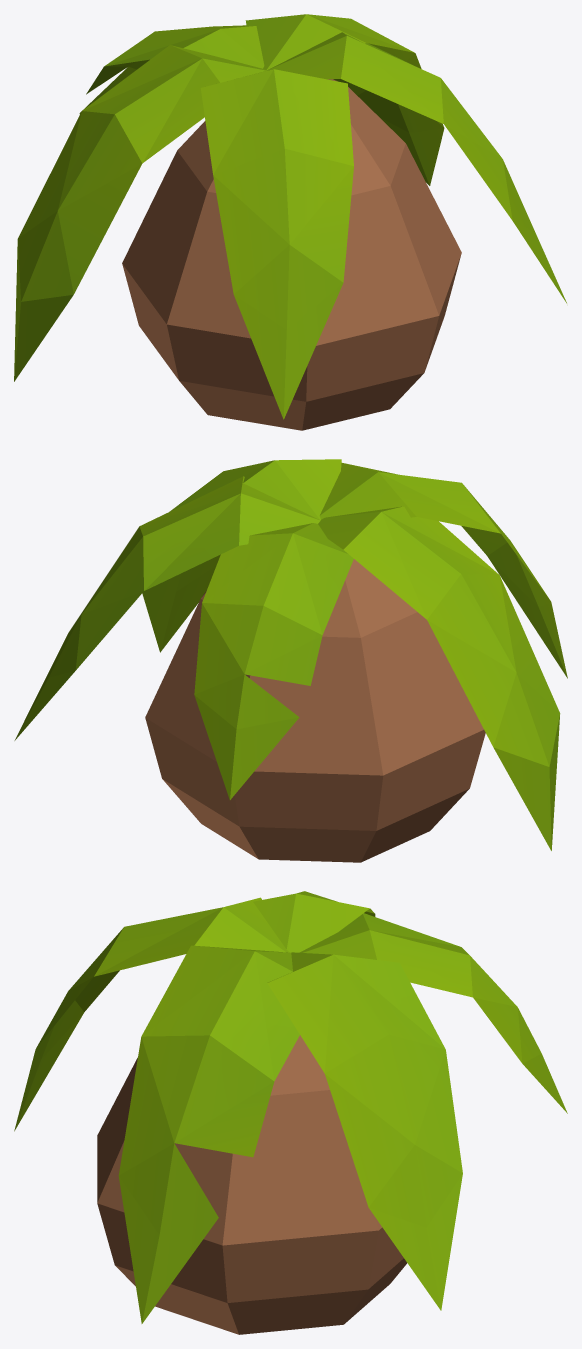
File: palm2.fbx
3 views of the same model, one above another, from view 1: azimuth 30°, elevation 25°; view 2: azimuth 150°, elevation 25°; view 3: azimuth 270°, elevation 25° (orthographic). The views are drawn at different scales.
Visible parts, largest first — view 1: palm-small; view 2: palm-small; view 3: palm-small.
Boxes of the visible parts, box(x1,y1,x2,y2) form: palm-small: box(14, 14, 566, 430); palm-small: box(14, 459, 567, 862); palm-small: box(14, 891, 567, 1334).
Size of the model in its own units: 305 by 207 by 291.
Materials: 1 (1 with a texture image).
